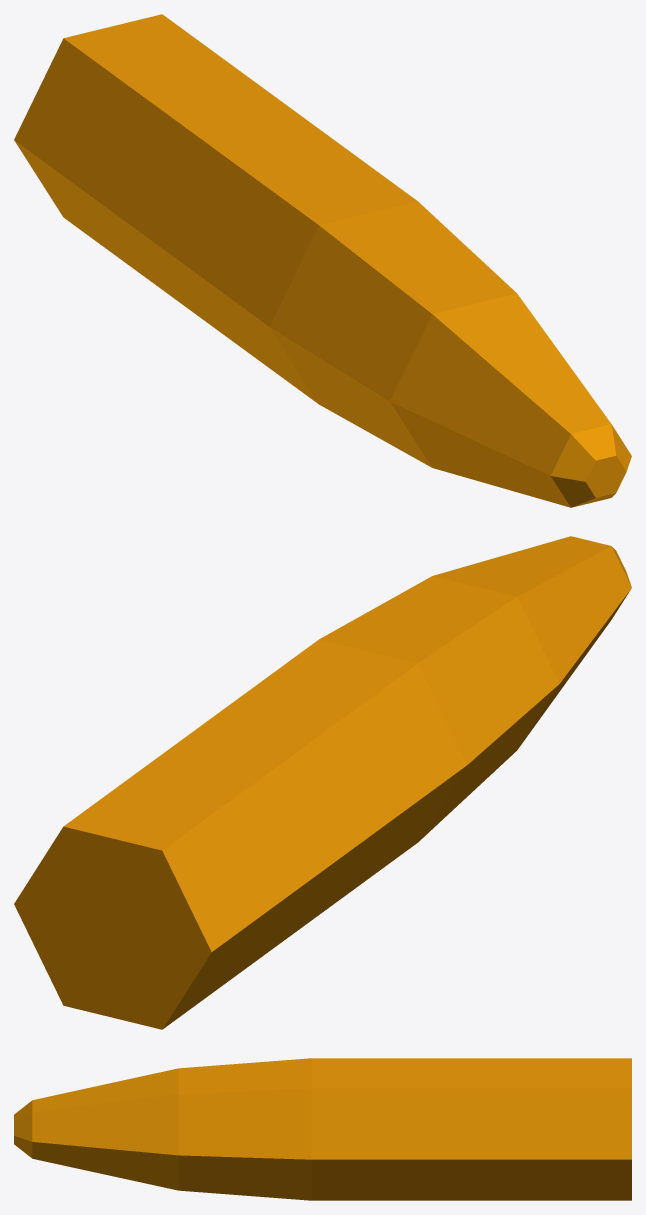
The model's file is projectile.fbx.
3 views of the same model, one above another, from view 1: azimuth 30°, elevation 25°; view 2: azimuth 150°, elevation 25°; view 3: azimuth 270°, elevation 25° (orthographic). The views are drawn at different scales.
Parts seen in each view (by area): view 1: Cylinder; view 2: Cylinder; view 3: Cylinder.
Boxes of the visible parts, left/top/right/bottom form: Cylinder: left=14, top=14, right=631, bottom=507; Cylinder: left=14, top=536, right=631, bottom=1029; Cylinder: left=14, top=1058, right=631, bottom=1200.
Size of the model in its own units: 11.57 by 10.02 by 50.
